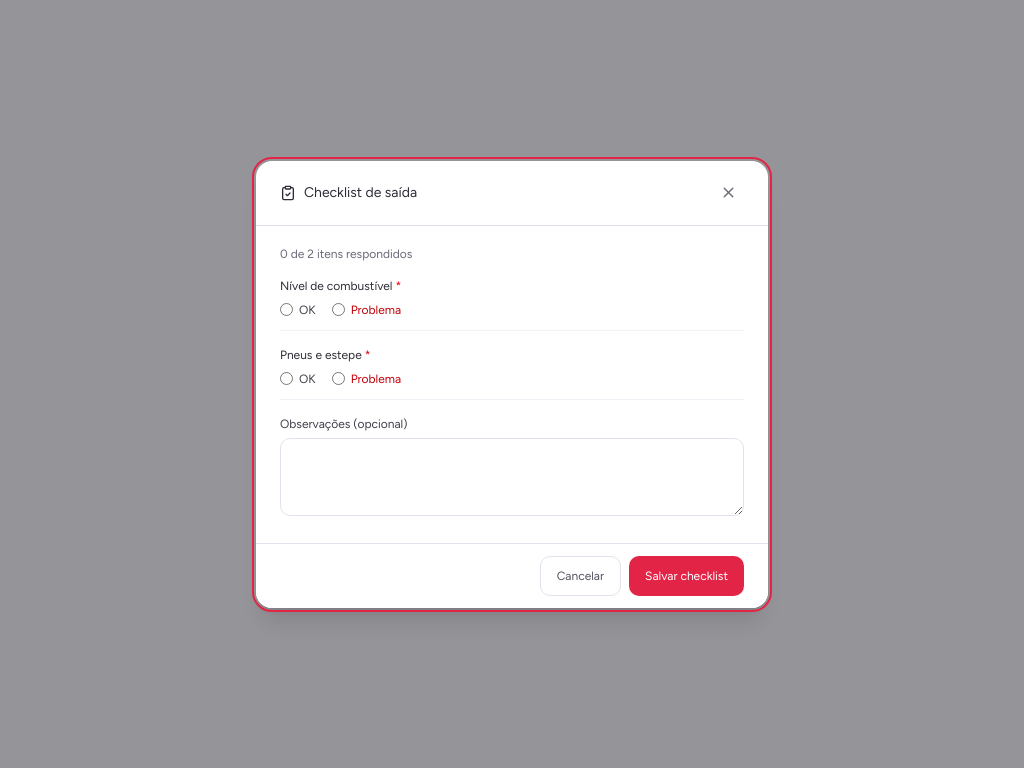
Test: ChecklistModal › mostra quantos itens já foram respondidos, num status discreto
The image size is (1024, 768).
Expected: the number of messages is 1, [280,246,412,260]
Click the radio button labelled "Problema" below "Pneus e estepe" at [338, 378], box [332,372,345,385]
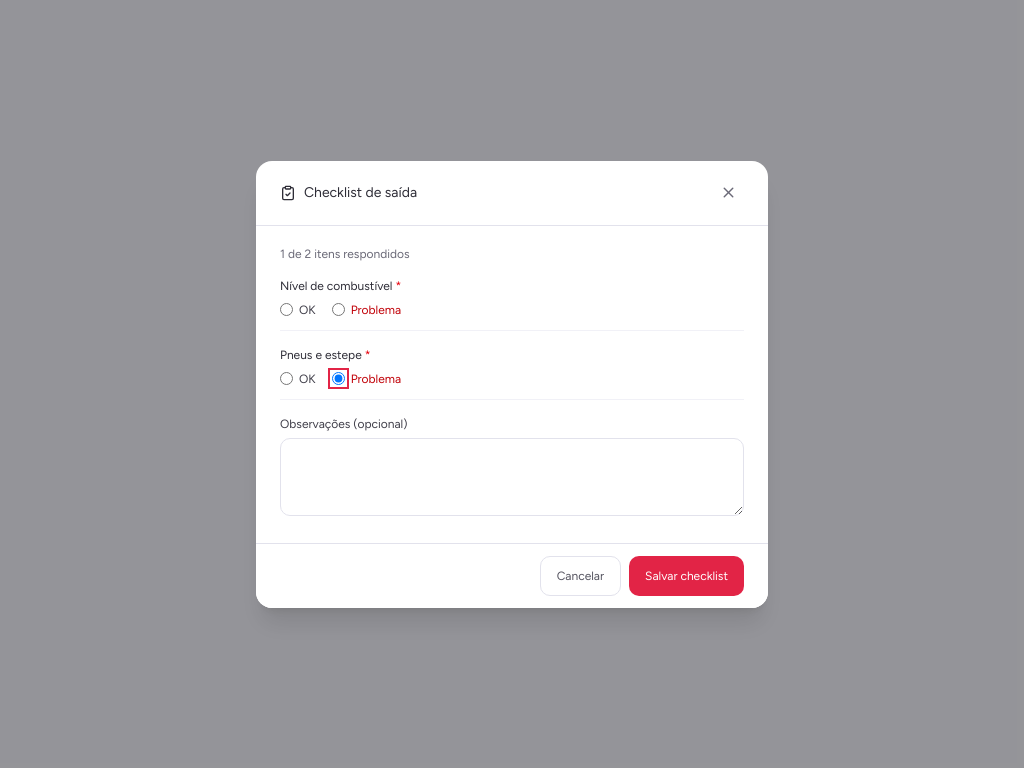
Expected: the message reads "1 de 2 itens respondidos", [280,246,410,260]
Click the radio button labelled "OK" below "Nível de combustível" at [286, 310], box [280,303,293,316]
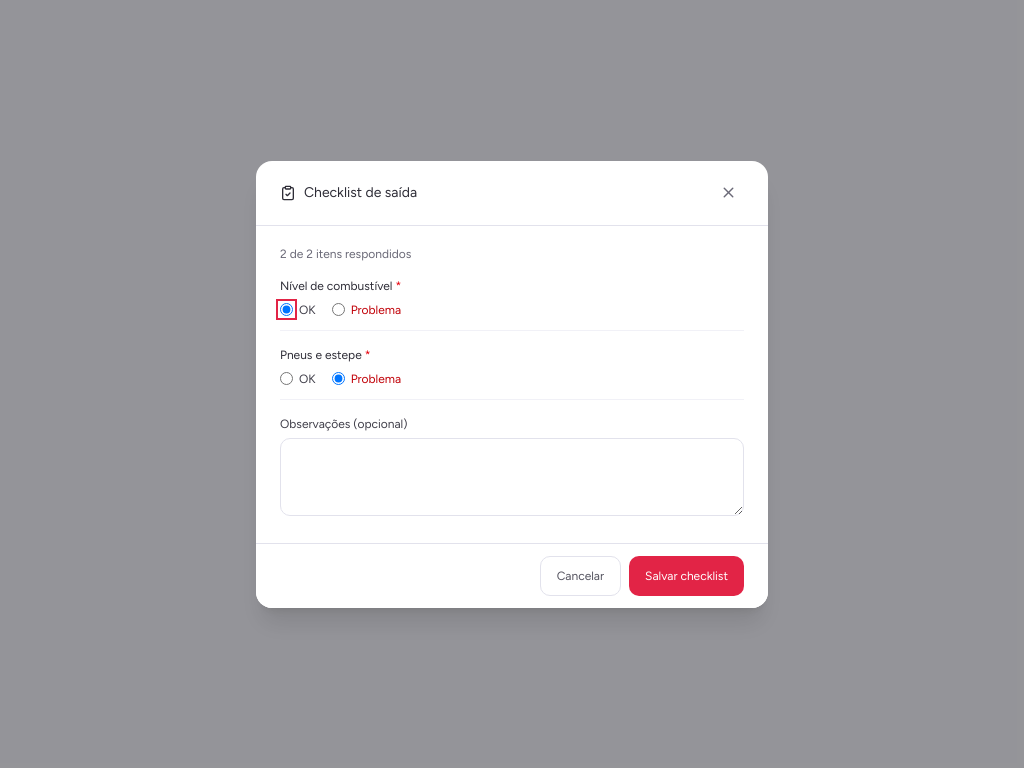
Expected: the message reads "2 de 2 itens respondidos", [280,246,411,260]
